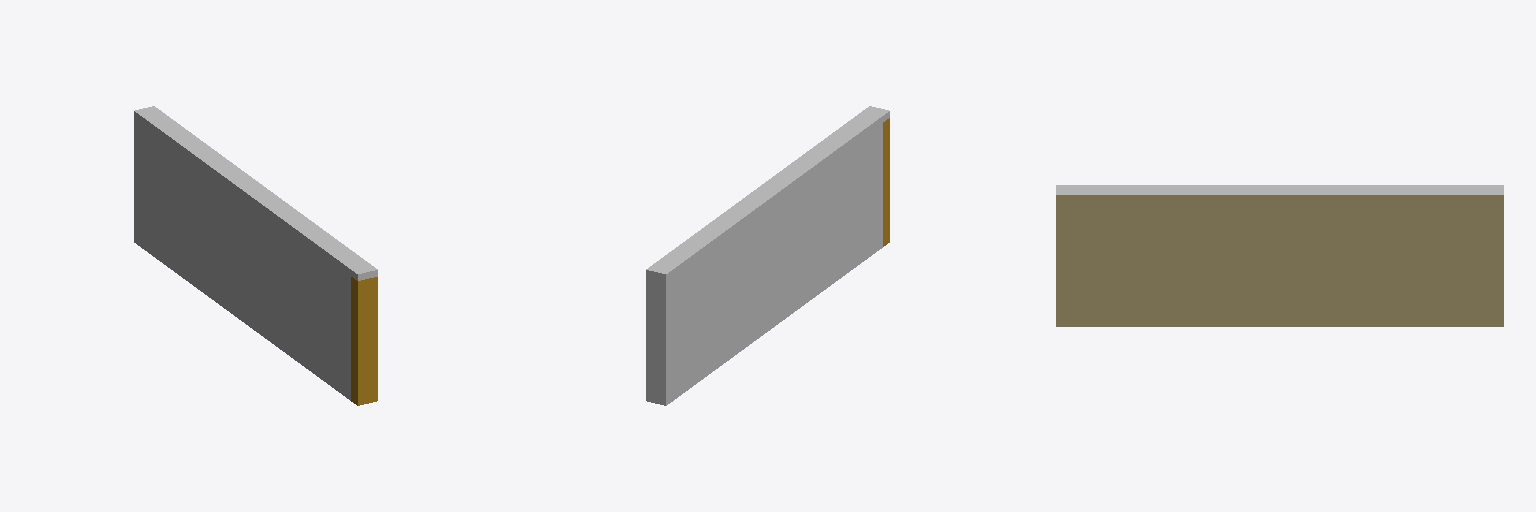
Rendered from terraza_derecha_1.obj.
The picture shows the model from 3 angles: view 1: azimuth 30°, elevation 25°; view 2: azimuth 150°, elevation 25°; view 3: azimuth 270°, elevation 25°; orthographic projection.
Visible parts, largest first — view 1: TECHO_4_Cube.033; view 2: TECHO_4_Cube.033; view 3: TECHO_4_Cube.033.
Part boxes in pixels (x1,y1,x2,y2): TECHO_4_Cube.033: (134, 106, 377, 405); TECHO_4_Cube.033: (646, 106, 889, 405); TECHO_4_Cube.033: (1056, 185, 1503, 326).
Bounding box in the file's own units: 0.4813 × 3 × 9.25.